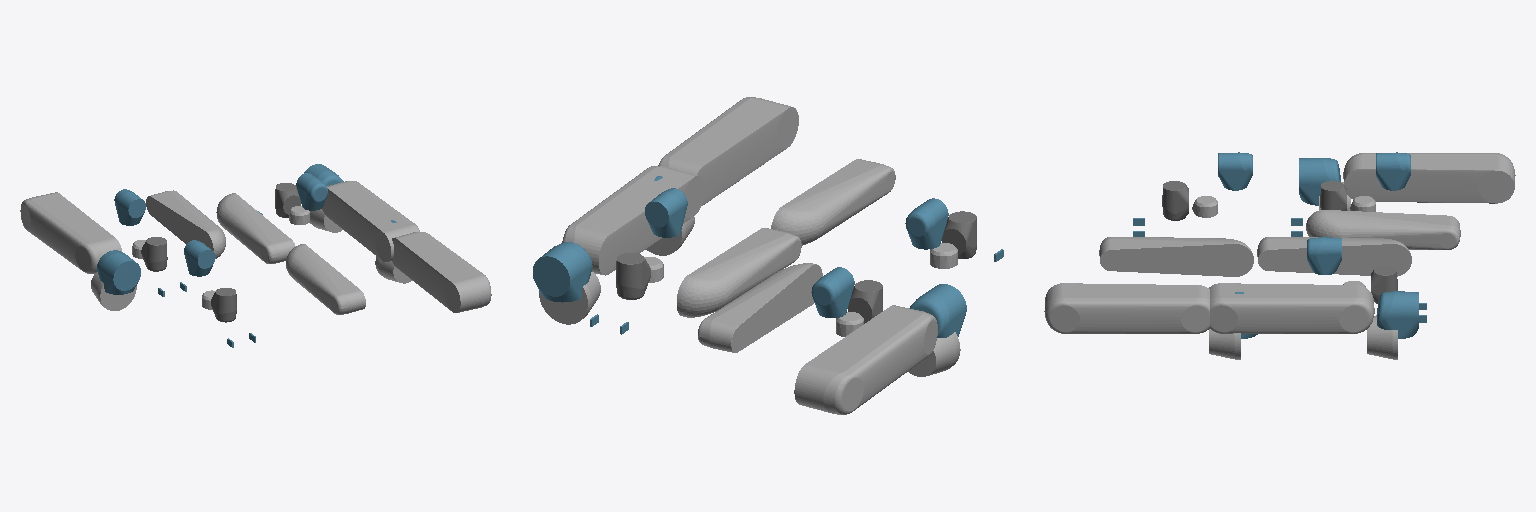
--- What the picture shows (computed from the rendered views, not written in the file) ---
3 views of the same robot in one strip: view 1: azimuth 30°, elevation 25°; view 2: azimuth 150°, elevation 25°; view 3: azimuth 270°, elevation 25° (orthographic).
Model dual_ur5_robot with 58 links and 57 joints (36 revolute, 21 fixed), rooted at base_fixture_link, posed all joints at 0.
Links seen in each view (by area): view 1: upper_arm_link_2, upper_arm_link_1, upper_arm_link_0, forearm_link_2, forearm_link_0, forearm_link_1, shoulder_link_1, wrist_1_link_1, wrist_1_link_2, wrist_1_link_0, wrist_2_link_0, wrist_2_link_2 (+2 smaller); view 2: upper_arm_link_1, upper_arm_link_2, upper_arm_link_0, forearm_link_0, forearm_link_1, forearm_link_2, shoulder_link_0, shoulder_link_1, wrist_1_link_2, wrist_1_link_0, wrist_1_link_1, wrist_2_link_1 (+6 smaller); view 3: upper_arm_link_2, upper_arm_link_0, upper_arm_link_1, forearm_link_2, forearm_link_1, forearm_link_0, shoulder_link_0, shoulder_link_1, wrist_1_link_1, wrist_1_link_0, wrist_1_link_2, wrist_2_link_2 (+4 smaller).
Boxes of the visible links, x1,y1,x2,y2 form: upper_arm_link_2: (392,232,491,312); upper_arm_link_1: (20,192,121,273); upper_arm_link_0: (322,181,419,262); forearm_link_2: (286,244,365,314); forearm_link_0: (216,193,295,263); forearm_link_1: (146,190,225,258); shoulder_link_1: (97,250,140,294); wrist_1_link_1: (296,173,327,210); wrist_1_link_2: (184,240,215,276); wrist_1_link_0: (114,189,145,225); wrist_2_link_0: (141,237,167,271); wrist_2_link_2: (211,288,236,322); upper_arm_link_1: (794,305,937,414); upper_arm_link_2: (658,97,798,205); upper_arm_link_0: (562,166,704,275); forearm_link_0: (677,228,801,317); forearm_link_1: (698,263,822,352); forearm_link_2: (771,159,895,245); shoulder_link_0: (533,242,592,302); shoulder_link_1: (910,284,966,337); wrist_1_link_2: (905,198,948,249); wrist_1_link_0: (811,267,854,317); wrist_1_link_1: (645,188,687,237); wrist_2_link_1: (616,253,650,299); upper_arm_link_2: (1044,283,1209,333); upper_arm_link_0: (1209,283,1374,333); upper_arm_link_1: (1343,153,1515,203); forearm_link_2: (1099,237,1253,276); forearm_link_1: (1306,210,1460,249); forearm_link_0: (1257,237,1411,276); shoulder_link_0: (1377,291,1418,338); shoulder_link_1: (1299,158,1340,205); wrist_1_link_1: (1307,237,1341,274); wrist_1_link_0: (1376,152,1410,190); wrist_1_link_2: (1218,152,1252,190); wrist_2_link_2: (1162,181,1188,220).
Bounding box of the posed robot: 1.15 × 1.49 × 0.3303 m (x, y, z).
Meshes: 12 distinct files referenced, 21 mesh visuals loaded (7 OBJ); not drawn: 27 (reference not matched to a file when rendering).

robot.urdf — dual_ur5_robot:
<?xml version="1.0" ?>
<!-- =================================================================================== -->
<!-- |    This document was autogenerated by xacro from ur_description/urdf/ur10e.xacro | -->
<!-- |    EDITING THIS FILE BY HAND IS NOT RECOMMENDED                                 | -->
<!-- =================================================================================== -->
<robot name="dual_ur5_robot">

  <!--################################################
  ########            shared base              #######
  ####################################################-->

  <link name="base_fixture_link"/>

  <!--################################################
  ########              arm 0                  #######
  ####################################################-->

  <link name="base_link_0">
    <visual>
      <geometry>
        <mesh filename="../ur5/meshes/visual/base.obj"/>
      </geometry>
      <material name="LightGrey">
        <color rgba="0.7 0.7 0.7 1.0"/>
      </material>
    </visual>
    <collision>
      <geometry>
        <mesh filename="../ur5/meshes/collision/base.stl"/>
      </geometry>
    </collision>
    <inertial>
      <mass value="4.0"/>
      <origin rpy="0 0 0" xyz="0.0 0.0 0.0"/>
      <inertia ixx="0.00443333156" ixy="0.0" ixz="0.0" iyy="0.00443333156" iyz="0.0" izz="0.0072"/>
    </inertial>
  </link>

  <joint name="shoulder_pan_joint_0" type="revolute">
    <parent link="base_link_0"/>
    <child link="shoulder_link_0"/>
    <origin rpy="0.0 0.0 0.0" xyz="0.0 0.0 0.089159"/>
    <axis xyz="0 0 1"/>
    <limit effort="150.0" lower="-3.14159265359" upper="3.14159265359" velocity="3.15"/>
    <dynamics damping="0.1" friction="0.0"/>
  </joint>
  <link name="shoulder_link_0">
    <visual>
      <geometry>
        <mesh filename="../ur5/meshes/visual/shoulder.obj"/>
      </geometry>
      <material name="UR-Blue">
        <color rgba="0.376 0.576 0.674 1.0"/>
      </material>
    </visual>
    <collision>
      <geometry>
        <mesh filename="../ur5/meshes/collision/shoulder.stl"/>
      </geometry>
    </collision>
    <inertial>
      <mass value="3.7"/>
      <origin rpy="0 0 0" xyz="0.0 0.0 0.0"/>
      <inertia ixx="0.010267495893" ixy="0.0" ixz="0.0" iyy="0.010267495893" iyz="0.0" izz="0.00666"/>
    </inertial>
  </link>
  <joint name="shoulder_lift_joint_0" type="revolute">
    <parent link="shoulder_link_0"/>
    <child link="upper_arm_link_0"/>
    <origin rpy="0.0 1.57079632679 0.0" xyz="0.0 0.13585 0.0"/>
    <axis xyz="0 1 0"/>
    <limit effort="150.0" lower="-3.14159265359" upper="3.14159265359" velocity="3.15"/>
    <dynamics damping="0.1" friction="0.0"/>
  </joint>
  <link name="upper_arm_link_0">
    <visual>
      <geometry>
        <mesh filename="../ur5/meshes/visual/upperarm.obj"/>
      </geometry>
      <material name="LightGrey">
        <color rgba="0.7 0.7 0.7 1.0"/>
      </material>
    </visual>
    <collision>
      <geometry>
        <mesh filename="../ur5/meshes/collision/upperarm.stl"/>
      </geometry>
    </collision>
    <inertial>
      <mass value="8.393"/>
      <origin rpy="0 0 0" xyz="0.0 0.0 0.28"/>
      <inertia ixx="0.22689067591" ixy="0.0" ixz="0.0" iyy="0.22689067591" iyz="0.0" izz="0.0151074"/>
    </inertial>
  </link>
  <joint name="elbow_joint_0" type="revolute">
    <parent link="upper_arm_link_0"/>
    <child link="forearm_link_0"/>
    <origin rpy="0.0 0.0 0.0" xyz="0.0 -0.1197 0.425"/>
    <axis xyz="0 1 0"/>
    <limit effort="150.0" lower="-3.14159265359" upper="3.14159265359" velocity="3.15"/>
    <dynamics damping="0.1" friction="0.0"/>
  </joint>
  <link name="forearm_link_0">
    <visual>
      <geometry>
        <mesh filename="../ur5/meshes/visual/forearm.obj"/>
      </geometry>
      <material name="LightGrey">
        <color rgba="0.7 0.7 0.7 1.0"/>
      </material>
    </visual>
    <collision>
      <geometry>
        <mesh filename="../ur5/meshes/collision/forearm.stl"/>
      </geometry>
    </collision>
    <inertial>
      <mass value="2.275"/>
      <origin rpy="0 0 0" xyz="0.0 0.0 0.25"/>
      <inertia ixx="0.049443313556" ixy="0.0" ixz="0.0" iyy="0.049443313556" iyz="0.0" izz="0.004095"/>
    </inertial>
  </link>
  <joint name="wrist_1_joint_0" type="revolute">
    <parent link="forearm_link_0"/>
    <child link="wrist_1_link_0"/>
    <origin rpy="0.0 1.57079632679 0.0" xyz="0.0 0.0 0.39225"/>
    <axis xyz="0 1 0"/>
    <limit effort="28.0" lower="-3.14159265359" upper="3.14159265359" velocity="3.2"/>
    <dynamics damping="0.1" friction="0.0"/>
  </joint>
  <link name="wrist_1_link_0">
    <visual>
      <geometry>
        <mesh filename="../ur5/meshes/visual/wrist1.obj"/>
      </geometry>
      <material name="UR-Blue">
        <color rgba="0.376 0.576 0.674 1.0"/>
      </material>
    </visual>
    <collision>
      <geometry>
        <mesh filename="../ur5/meshes/collision/wrist1.stl"/>
      </geometry>
    </collision>
    <inertial>
      <mass value="1.219"/>
      <origin rpy="0 0 0" xyz="0.0 0.0 0.0"/>
      <inertia ixx="0.111172755531" ixy="0.0" ixz="0.0" iyy="0.111172755531" iyz="0.0" izz="0.21942"/>
    </inertial>
  </link>
  <joint name="wrist_2_joint_0" type="revolute">
    <parent link="wrist_1_link_0"/>
    <child link="wrist_2_link_0"/>
    <origin rpy="0.0 0.0 0.0" xyz="0.0 0.093 0.0"/>
    <axis xyz="0 0 1"/>
    <limit effort="28.0" lower="-3.14159265359" upper="3.14159265359" velocity="3.2"/>
    <dynamics damping="0.1" friction="0.0"/>
  </joint>
  <link name="wrist_2_link_0">
    <visual>
      <geometry>
        <mesh filename="../ur5/meshes/visual/wrist2.obj"/>
      </geometry>
      <material name="DarkGray">
        <color rgba="0.5 0.5 0.5 1.0"/>
      </material>
    </visual>
    <collision>
      <geometry>
        <mesh filename="../ur5/meshes/collision/wrist2.stl"/>
      </geometry>
    </collision>
    <inertial>
      <mass value="1.219"/>
      <origin rpy="0 0 0" xyz="0.0 0.0 0.0"/>
      <inertia ixx="0.111172755531" ixy="0.0" ixz="0.0" iyy="0.111172755531" iyz="0.0" izz="0.21942"/>
    </inertial>
  </link>
  <joint name="wrist_3_joint_0" type="revolute">
    <parent link="wrist_2_link_0"/>
    <child link="wrist_3_link_0"/>
    <origin rpy="0.0 0.0 0.0" xyz="0.0 0.0 0.09465"/>
    <axis xyz="0 1 0"/>
    <limit effort="28.0" lower="-3.14159265359" upper="3.14159265359" velocity="3.2"/>
    <dynamics damping="0.1" friction="0.0"/>
  </joint>
  <link name="wrist_3_link_0">
    <visual>
      <geometry>
        <mesh filename="../ur5/meshes/visual/wrist3.obj"/>
      </geometry>
      <material name="LightGrey">
        <color rgba="0.7 0.7 0.7 1.0"/>
      </material>
    </visual>
    <collision>
      <geometry>
        <mesh filename="../ur5/meshes/collision/wrist3.stl"/>
      </geometry>
    </collision>
    <inertial>
      <mass value="0.1879"/>
      <origin rpy="0 0 0" xyz="0.0 0.0 0.0"/>
      <inertia ixx="0.0171364731454" ixy="0.0" ixz="0.0" iyy="0.0171364731454" iyz="0.0" izz="0.033822"/>
    </inertial>
  </link>
  <joint name="ee_fixed_joint_0" type="fixed">
    <parent link="wrist_3_link_0"/>
    <child link="ee_link_0"/>
    <origin rpy="0.0 0.0 1.57079632679" xyz="0.0 0.0823 0.0"/>
    <dynamics damping="0.1" friction="0.0"/>
  </joint>
  <link name="ee_link_0">
    <collision>
      <geometry>
        <box size="0.01 0.01 0.01"/>
      </geometry>
      <origin rpy="0 0 0" xyz="-0.01 0 0"/>
    </collision>
  </link>

  <!--################################################
  ########             gripper 0                 #####
  ####################################################-->

  <link name="robotiq_arg2f_base_link_0">
    <inertial>
      <origin rpy="0 0 0" xyz="8.625E-08 -4.6583E-06 0.03145"/>
      <mass value="0.22652"/>
      <inertia ixx="0.00020005" ixy="-4.2442E-10" ixz="-2.9069E-10" iyy="0.00017832" iyz="-3.4402E-08" izz="0.00013478"/>
    </inertial>
    <visual>
      <origin rpy="0 0 0" xyz="0 0 0"/>
      <geometry>
        <mesh filename="../robotiq_85/meshes/visual/robotiq_arg2f_85_base_link.dae" scale="0.001 0.001 0.001"/>
      </geometry>
      <material name="LightGrey">
        <color rgba="0.7 0.7 0.7 1.0"/>
      </material>
    </visual>
    <collision>
      <origin rpy="0 0 0" xyz="0 0 0"/>
      <geometry>
        <mesh filename="../robotiq_85/meshes/collision/robotiq_arg2f_base_link.stl"/>
      </geometry>
    </collision>
  </link>
  <joint name="finger_joint_0" type="revolute">
    <origin rpy="0 0 3.14159265359" xyz="0 -0.0306011 0.054904"/>
    <parent link="robotiq_arg2f_base_link_0"/>
    <child link="left_outer_knuckle_0"/>
    <axis xyz="1 0 0"/>
    <limit effort="1000" lower="0" upper="0.8" velocity="2.0"/>
    <dynamics damping="0.1" friction="0.0"/>
  </joint>
  <link name="left_outer_knuckle_0">
    <inertial>
        <origin xyz="-0.000200000000003065 0.0199435877845359 0.0292245259211331" rpy="0 0 0" />
        <mass value="0.00853198276973456" />
        <inertia ixx="2.89328108496468E-06" ixy="-1.57935047237397E-19" ixz="-1.93980378593255E-19" iyy="1.86719750325683E-06" iyz="-1.21858577871576E-06" izz="1.21905238907251E-06" />
        </inertial>
    <visual>
      <origin rpy="0 0 0" xyz="0 0 0"/>
      <geometry>
        <mesh filename="../robotiq_85/meshes/visual/robotiq_arg2f_85_outer_knuckle.dae" scale="0.001 0.001 0.001"/>
      </geometry>
      <material name="">
        <color rgba="1 1 0 1"/>
      </material>
    </visual>
    <collision>
      <origin rpy="0 0 0" xyz="0 0 0"/>
      <geometry>
        <mesh filename="../robotiq_85/meshes/collision/robotiq_arg2f_85_outer_knuckle.dae" scale="0.001 0.001 0.001"/>
      </geometry>
    </collision>
  </link>
  <joint name="left_outer_finger_joint_0" type="fixed">
    <origin rpy="0 0 0" xyz="0 0.0315 -0.0041"/>
    <parent link="left_outer_knuckle_0"/>
    <child link="left_outer_finger_0"/>
    <axis xyz="1 0 0"/>
    <dynamics damping="0.1" friction="0.0"/>
  </joint>
  <link name="left_outer_finger_0">
    <inertial>
        <origin xyz="0.00030115855001899 0.0373907951953854 -0.0208027427000385" rpy="0 0 0" />
        <mass value="0.022614240507152" />
        <inertia ixx="1.52518312458174E-05" ixy="9.76583423954399E-10" ixz="-5.43838577022588E-10" iyy="6.17694243867776E-06" iyz="6.78636130740228E-06" izz="1.16494917907219E-05" />
        </inertial>
    <visual>
      <origin rpy="0 0 0" xyz="0 0 0"/>
      <geometry>
        <mesh filename="../robotiq_85/meshes/visual/robotiq_arg2f_85_outer_finger.dae" scale="0.001 0.001 0.001"/>
      </geometry>
      <material name="LightGrey">
        <color rgba="0 1 1 1.0"/>
      </material>
    </visual>
    <collision>
      <origin rpy="0 0 0" xyz="0 0 0"/>
      <geometry>
        <mesh filename="../robotiq_85/meshes/collision/robotiq_arg2f_85_outer_finger.dae" scale="0.001 0.001 0.001"/>
      </geometry>
    </collision>
  </link>
  <joint name="left_inner_finger_joint_0" type="revolute">
    <origin rpy="0 0 0" xyz="0 0.0061 0.0471"/>
    <parent link="left_outer_finger_0"/>
    <child link="left_inner_finger_0"/>
    <axis xyz="1 0 0"/>
    <limit effort="1000" lower="-0.8757" upper="0" velocity="2.0"/>
    <mimic joint="finger_joint_0" multiplier="-1" offset="0"/>
    <dynamics damping="0.1" friction="0.0"/>
  </joint>
  <link name="left_inner_finger_0">
    <inertial>
        <origin xyz="0.000299999999999317 0.0160078233491243 -0.0136945669206257" rpy="0 0 0" />
        <mass value="0.0104003125914103" />
        <inertia ixx="2.71909453810972E-06" ixy="1.35402465472579E-21" ixz="-7.1817349065269E-22" iyy="7.69100314106116E-07" iyz="6.74715432769696E-07" izz="2.30315190420171E-06" />
        </inertial>
    <visual>
      <origin rpy="0 0 0" xyz="0 0 0"/>
      <geometry>
        <mesh filename="../robotiq_85/meshes/visual/robotiq_arg2f_85_inner_finger.dae" scale="0.001 0.001 0.001"/>
      </geometry>
      <material name="LightGrey">
        <color rgba="1 0 1 1.0"/>
      </material>
    </visual>
    <collision>
      <origin rpy="0 0 0" xyz="0 0 0"/>
      <geometry>
        <mesh filename="../robotiq_85/meshes/collision/robotiq_arg2f_85_inner_finger.dae" scale="0.001 0.001 0.001"/>
      </geometry>
    </collision>
  </link>
  <joint name="left_inner_finger_pad_joint_0" type="fixed">
    <origin rpy="0 0 0" xyz="0 -0.0220203446692936 0.03242"/>
    <parent link="left_inner_finger_0"/>
    <child link="left_inner_finger_pad_0"/>
    <axis xyz="0 0 1"/>
    <dynamics damping="0.1" friction="0.0"/>
  </joint>
  <link name="left_inner_finger_pad_0">
    <inertial>
      <mass value="1."/>
      <inertia ixx="1E-10" ixy="1E-10" ixz="1E-10" iyy="1E-10" iyz="1E-10" izz="1E-10"/>
    </inertial>
    <contact>
      <friction_anchor/>
      <stiffness value="30000.0"/>
      <damping value="1000.0"/>
      <spinning_friction value="0.1"/>
      <lateral_friction value="1.0"/>
    </contact>
    <visual>
      <origin rpy="0 0 0" xyz="0 0 0"/>
      <geometry>
        <box size="0.022 0.00635 0.0375"/>
      </geometry>
      <material name="UR-Blue">
        <color rgba="0.376 0.576 0.674 1.0"/>
      </material>
    </visual>
    <collision>
      <origin rpy="0 0 0" xyz="0 0 0"/>
      <geometry>
        <box size="0.022 0.00635 0.0375"/>
      </geometry>
      <material name="">
        <color rgba="0.9 0.0 0.0 1"/>
      </material>
    </collision>
  </link>
  <joint name="left_inner_knuckle_joint_0" type="revolute">
    <!-- <origin xyz="0 ${reflect * -0.0127} 0.06142" rpy="${pi / 2 + .725} 0 ${(reflect - 1) * pi / 2}" /> -->
    <origin rpy="0 0 3.14159265359" xyz="0 -0.0127 0.06142"/>
    <parent link="robotiq_arg2f_base_link_0"/>
    <child link="left_inner_knuckle_0"/>
    <axis xyz="1 0 0"/>
    <limit effort="1000" lower="0" upper="0.8757" velocity="2.0"/>
    <mimic joint="finger_joint_0" multiplier="1" offset="0"/>
    <dynamics damping="0.1" friction="0.0"/>
  </joint>
  <link name="left_inner_knuckle_0">
    <inertial>
        <origin xyz="0.000123011831763771 0.0507850843201817 0.00103968640075166" rpy="0 0 0" />
       <mass value="0.0271177346495152" />
        <inertia ixx="2.61910379223783E-05" ixy="-2.43616858946494E-07" ixz="-6.37789906117123E-09" iyy="2.8270243746167E-06" iyz="-5.37200748039765E-07" izz="2.83695868220296E-05" />
        </inertial>
    <visual>
      <origin rpy="0 0 0" xyz="0 0 0"/>
      <geometry>
        <mesh filename="../robotiq_85/meshes/visual/robotiq_arg2f_85_inner_knuckle.dae" scale="0.001 0.001 0.001"/>
      </geometry>
      <material name="LightGrey">
        <color rgba="0 0 1 1.0"/>
      </material>
    </visual>
    <collision>
      <origin rpy="0 0 0" xyz="0 0 0"/>
      <geometry>
        <mesh filename="../robotiq_85/meshes/collision/robotiq_arg2f_85_inner_knuckle.dae" scale="0.001 0.001 0.001"/>
      </geometry>
    </collision>
  </link>
  <joint name="right_outer_knuckle_joint_0" type="revolute">
    <origin rpy="0 0 0" xyz="0 0.0306011 0.054904"/>
    <parent link="robotiq_arg2f_base_link_0"/>
    <child link="right_outer_knuckle_0"/>
    <axis xyz="1 0 0"/>
    <limit effort="1000" lower="0" upper="0.81" velocity="2.0"/>
    <mimic joint="finger_joint_0" multiplier="1" offset="0"/>
    <dynamics damping="0.1" friction="0.0"/>
  </joint>
  <link name="right_outer_knuckle_0">
    <inertial>
        <origin xyz="-0.000200000000003065 0.0199435877845359 0.0292245259211331" rpy="0 0 0" />
        <mass value="0.00853198276973456" />
        <inertia ixx="2.89328108496468E-06" ixy="-1.57935047237397E-19" ixz="-1.93980378593255E-19" iyy="1.86719750325683E-06" iyz="-1.21858577871576E-06" izz="1.21905238907251E-06" />
        </inertial>
    <visual>
      <origin rpy="0 0 0" xyz="0 0 0"/>
      <geometry>
        <mesh filename="../robotiq_85/meshes/visual/robotiq_arg2f_85_outer_knuckle.dae" scale="0.001 0.001 0.001"/>
      </geometry>
      <material name="">
        <color rgba="0.792156862745098 0.819607843137255 0.933333333333333 1"/>
      </material>
    </visual>
    <collision>
      <origin rpy="0 0 0" xyz="0 0 0"/>
      <geometry>
        <mesh filename="../robotiq_85/meshes/collision/robotiq_arg2f_85_outer_knuckle.dae" scale="0.001 0.001 0.001"/>
      </geometry>
    </collision>
  </link>
  <joint name="right_outer_finger_joint_0" type="fixed">
    <origin rpy="0 0 0" xyz="0 0.0315 -0.0041"/>
    <parent link="right_outer_knuckle_0"/>
    <child link="right_outer_finger_0"/>
    <axis xyz="1 0 0"/>
    <dynamics damping="0.1" friction="0.0"/>
  </joint>
  <link name="right_outer_finger_0">
    <inertial>
        <origin xyz="0.00030115855001899 0.0373907951953854 -0.0208027427000385" rpy="0 0 0" />
        <mass value="0.022614240507152" />
        <inertia ixx="1.52518312458174E-05" ixy="9.76583423954399E-10" ixz="-5.43838577022588E-10" iyy="6.17694243867776E-06" iyz="6.78636130740228E-06" izz="1.16494917907219E-05" />
        </inertial>
    <visual>
      <origin rpy="0 0 0" xyz="0 0 0"/>
      <geometry>
        <mesh filename="../robotiq_85/meshes/visual/robotiq_arg2f_85_outer_finger.dae" scale="0.001 0.001 0.001"/>
      </geometry>
      <material name="LightGrey">
        <color rgba="0.7 0.7 0.7 1.0"/>
      </material>
    </visual>
    <collision>
      <origin rpy="0 0 0" xyz="0 0 0"/>
      <geometry>
        <mesh filename="../robotiq_85/meshes/collision/robotiq_arg2f_85_outer_finger.dae" scale="0.001 0.001 0.001"/>
      </geometry>
    </collision>
  </link>
  <joint name="right_inner_finger_joint_0" type="revolute">
    <origin rpy="0 0 0" xyz="0 0.0061 0.0471"/>
    <parent link="right_outer_finger_0"/>
    <child link="right_inner_finger_0"/>
    <axis xyz="1 0 0"/>
    <limit effort="1000" lower="-0.8757" upper="0" velocity="2.0"/>
    <mimic joint="finger_joint_0" multiplier="-1" offset="0"/>
    <dynamics damping="0.1" friction="0.0"/>
  </joint>
  <link name="right_inner_finger_0">
    <inertial>
        <origin xyz="0.000299999999999317 0.0160078233491243 -0.0136945669206257" rpy="0 0 0" />
        <mass value="0.0104003125914103" />
        <inertia ixx="2.71909453810972E-06" ixy="1.35402465472579E-21" ixz="-7.1817349065269E-22" iyy="7.69100314106116E-07" iyz="6.74715432769696E-07" izz="2.30315190420171E-06" />
        </inertial>
    <visual>
      <origin rpy="0 0 0" xyz="0 0 0"/>
      <geometry>
        <mesh filename="../robotiq_85/meshes/visual/robotiq_arg2f_85_inner_finger.dae" scale="0.001 0.001 0.001"/>
      </geometry>
      <material name="">
        <color rgba="0.1 0.1 0.1 1"/>
      </material>
    </visual>
    <collision>
      <origin rpy="0 0 0" xyz="0 0 0"/>
      <geometry>
        <mesh filename="../robotiq_85/meshes/collision/robotiq_arg2f_85_inner_finger.dae" scale="0.001 0.001 0.001"/>
      </geometry>
    </collision>
  </link>
  <joint name="right_inner_finger_pad_joint_0" type="fixed">
    <origin rpy="0 0 0" xyz="0 -0.0220203446692936 0.03242"/>
    <parent link="right_inner_finger_0"/>
    <child link="right_inner_finger_pad_0"/>
    <axis xyz="0 0 1"/>
    <dynamics damping="0.1" friction="0.0"/>
  </joint>
  <link name="right_inner_finger_pad_0">
    <inertial>
      <mass value="1"/>
      <inertia ixx="1E-10" ixy="1E-10" ixz="1E-10" iyy="1E-10" iyz="1E-10" izz="1E-10"/>
    </inertial>
    <contact>
      <friction_anchor/>
      <stiffness value="30000.0"/>
      <damping value="1000.0"/>
      <spinning_friction value="0.1"/>
      <lateral_friction value="1.0"/>
    </contact>
    <visual>
      <origin rpy="0 0 0" xyz="0 0 0"/>
      <geometry>
        <box size="0.022 0.00635 0.0375"/>
      </geometry>
      <material name="UR-Blue">
        <color rgba="0.376 0.576 0.674 1.0"/>
      </material>
    </visual>
    <collision>
      <origin rpy="0 0 0" xyz="0 0 0"/>
      <geometry>
        <box size="0.022 0.00635 0.0375"/>
      </geometry>
      <material name="LightGrey">
        <color rgba="0.7 0.7 0.7 1.0"/>
      </material>
    </collision>
  </link>
  <joint name="right_inner_knuckle_joint_0" type="revolute">
    <!-- <origin xyz="0 ${reflect * -0.0127} 0.06142" rpy="${pi / 2 + .725} 0 ${(reflect - 1) * pi / 2}" /> -->
    <origin rpy="0 0 0.0" xyz="0 0.0127 0.06142"/>
    <parent link="robotiq_arg2f_base_link_0"/>
    <child link="right_inner_knuckle_0"/>
    <axis xyz="1 0 0"/>
    <limit effort="1000" lower="0" upper="0.8757" velocity="2.0"/>
    <mimic joint="finger_joint_0" multiplier="1" offset="0"/>
    <dynamics damping="0.1" friction="0.0"/>
  </joint>
  <link name="right_inner_knuckle_0">
    <inertial>
        <origin xyz="0.000123011831763771 0.0507850843201817 0.00103968640075166" rpy="0 0 0" />
       <mass value="0.0271177346495152" />
        <inertia ixx="2.61910379223783E-05" ixy="-2.43616858946494E-07" ixz="-6.37789906117123E-09" iyy="2.8270243746167E-06" iyz="-5.37200748039765E-07" izz="2.83695868220296E-05" />
        </inertial>
    <visual>
      <origin rpy="0 0 0" xyz="0 0 0"/>
      <geometry>
        <mesh filename="../robotiq_85/meshes/visual/robotiq_arg2f_85_inner_knuckle.dae" scale="0.001 0.001 0.001"/>
      </geometry>
      <material name="LightGrey">
        <color rgba="0.7 0.7 0.7 1.0"/>
      </material>
    </visual>
    <collision>
      <origin rpy="0 0 0" xyz="0 0 0"/>
      <geometry>
        <mesh filename="../robotiq_85/meshes/collision/robotiq_arg2f_85_inner_knuckle.dae" scale="0.001 0.001 0.001"/>
      </geometry>
    </collision>
  </link>

  <!--################################################
  ########          arm0 to gripper0             #####
  ####################################################-->

  <!-- connect gripper to arm -->
  <joint name="robotiq_85_base_joint_0" type="fixed">
    <parent link="ee_link_0"/>
    <child link="robotiq_arg2f_base_link_0"/>
    <origin rpy="0 1.57079632679 0" xyz="0 0 0"/>
  </joint>

  <!--################################################
  ########              arm 1                  #######
  ####################################################-->

  <link name="base_link_1">
    <visual>
      <geometry>
        <mesh filename="../ur5/meshes/visual/base.obj"/>
      </geometry>
      <material name="LightGrey">
        <color rgba="0.7 0.7 0.7 1.0"/>
      </material>
    </visual>
    <collision>
      <geometry>
        <mesh filename="../ur5/meshes/collision/base.stl"/>
      </geometry>
    </collision>
    <inertial>
      <mass value="4.0"/>
      <origin rpy="0 0 0" xyz="0.0 0.0 0.0"/>
      <inertia ixx="0.00443333156" ixy="0.0" ixz="0.0" iyy="0.00443333156" iyz="0.0" izz="0.0072"/>
    </inertial>
  </link>

  <joint name="shoulder_pan_joint_1" type="revolute">
    <parent link="base_link_1"/>
    <child link="shoulder_link_1"/>
    <origin rpy="0.0 0.0 0.0" xyz="0.0 0.0 0.089159"/>
    <axis xyz="0 0 1"/>
    <limit effort="150.0" lower="-3.14159265359" upper="3.14159265359" velocity="3.15"/>
    <dynamics damping="0.1" friction="0.0"/>
  </joint>
  <link name="shoulder_link_1">
    <visual>
      <geometry>
        <mesh filename="../ur5/meshes/visual/shoulder.obj"/>
      </geometry>
      <material name="UR-Blue">
        <color rgba="0.376 0.576 0.674 1.0"/>
      </material>
    </visual>
    <collision>
      <geometry>
        <mesh filename="../ur5/meshes/collision/shoulder.stl"/>
      </geometry>
    </collision>
    <inertial>
      <mass value="3.7"/>
      <origin rpy="0 0 0" xyz="0.0 0.0 0.0"/>
      <inertia ixx="0.010267495893" ixy="0.0" ixz="0.0" iyy="0.010267495893" iyz="0.0" izz="0.00666"/>
    </inertial>
  </link>
  <joint name="shoulder_lift_joint_1" type="revolute">
    <parent link="shoulder_link_1"/>
    <child link="upper_arm_link_1"/>
    <origin rpy="0.0 1.57079632679 0.0" xyz="0.0 0.13585 0.0"/>
    <axis xyz="0 1 0"/>
    <limit effort="150.0" lower="-3.14159265359" upper="3.14159265359" velocity="3.15"/>
    <dynamics damping="0.1" friction="0.0"/>
  </joint>
  <link name="upper_arm_link_1">
    <visual>
      <geometry>
        <mesh filename="../ur5/meshes/visual/upperarm.obj"/>
      </geometry>
      <material name="LightGrey">
        <color rgba="0.7 0.7 0.7 1.0"/>
      </material>
    </visual>
    <collision>
      <geometry>
        <mesh filename="../ur5/meshes/collision/upperarm.stl"/>
      </geometry>
    </collision>
    <inertial>
      <mass value="8.393"/>
      <origin rpy="0 0 0" xyz="0.0 0.0 0.28"/>
      <inertia ixx="0.22689067591" ixy="0.0" ixz="0.0" iyy="0.22689067591" iyz="0.0" izz="0.0151074"/>
    </inertial>
  </link>
  <joint name="elbow_joint_1" type="revolute">
    <parent link="upper_arm_link_1"/>
    <child link="forearm_link_1"/>
    <origin rpy="0.0 0.0 0.0" xyz="0.0 -0.1197 0.425"/>
    <axis xyz="0 1 0"/>
    <limit effort="150.0" lower="-3.14159265359" upper="3.14159265359" velocity="3.15"/>
    <dynamics damping="0.1" friction="0.0"/>
  </joint>
  <link name="forearm_link_1">
    <visual>
      <geometry>
        <mesh filename="../ur5/meshes/visual/forearm.obj"/>
      </geometry>
      <material name="LightGrey">
        <color rgba="0.7 0.7 0.7 1.0"/>
      </material>
    </visual>
    <collision>
      <geometry>
        <mesh filename="../ur5/meshes/collision/forearm.stl"/>
      </geometry>
    </collision>
    <inertial>
      <mass value="2.275"/>
      <origin rpy="0 0 0" xyz="0.0 0.0 0.25"/>
      <inertia ixx="0.049443313556" ixy="0.0" ixz="0.0" iyy="0.049443313556" iyz="0.0" izz="0.004095"/>
    </inertial>
  </link>
  <joint name="wrist_1_joint_1" type="revolute">
    <parent link="forearm_link_1"/>
    <child link="wrist_1_link_1"/>
    <origin rpy="0.0 1.57079632679 0.0" xyz="0.0 0.0 0.39225"/>
    <axis xyz="0 1 0"/>
    <limit effort="28.0" lower="-3.14159265359" upper="3.14159265359" velocity="3.2"/>
    <dynamics damping="0.1" friction="0.0"/>
  </joint>
  <link name="wrist_1_link_1">
    <visual>
      <geometry>
        <mesh filename="../ur5/meshes/visual/wrist1.obj"/>
      </geometry>
      <material name="UR-Blue">
        <color rgba="0.376 0.576 0.674 1.0"/>
      </material>
    </visual>
    <collision>
      <geometry>
        <mesh filename="../ur5/meshes/collision/wrist1.stl"/>
      </geometry>
    </collision>
    <inertial>
      <mass value="1.219"/>
      <origin rpy="0 0 0" xyz="0.0 0.0 0.0"/>
      <inertia ixx="0.111172755531" ixy="0.0" ixz="0.0" iyy="0.111172755531" iyz="0.0" izz="0.21942"/>
    </inertial>
  </link>
  <joint name="wrist_2_joint_1" type="revolute">
    <parent link="wrist_1_link_1"/>
    <child link="wrist_2_link_1"/>
    <origin rpy="0.0 0.0 0.0" xyz="0.0 0.093 0.0"/>
    <axis xyz="0 0 1"/>
    <limit effort="28.0" lower="-3.14159265359" upper="3.14159265359" velocity="3.2"/>
    <dynamics damping="0.1" friction="0.0"/>
  </joint>
  <link name="wrist_2_link_1">
    <visual>
      <geometry>
        <mesh filename="../ur5/meshes/visual/wrist2.obj"/>
      </geometry>
      <material name="DarkGray">
        <color rgba="0.5 0.5 0.5 1.0"/>
      </material>
    </visual>
    <collision>
      <geometry>
        <mesh filename="../ur5/meshes/collision/wrist2.stl"/>
      </geometry>
    </collision>
    <inertial>
      <mass value="1.219"/>
      <origin rpy="0 0 0" xyz="0.0 0.0 0.0"/>
      <inertia ixx="0.111172755531" ixy="0.0" ixz="0.0" iyy="0.111172755531" iyz="0.0" izz="0.21942"/>
    </inertial>
  </link>
  <joint name="wrist_3_joint_1" type="revolute">
    <parent link="wrist_2_link_1"/>
    <child link="wrist_3_link_1"/>
    <origin rpy="0.0 0.0 0.0" xyz="0.0 0.0 0.09465"/>
    <axis xyz="0 1 0"/>
    <limit effort="28.0" lower="-3.14159265359" upper="3.14159265359" velocity="3.2"/>
    <dynamics damping="0.1" friction="0.0"/>
  </joint>
  <link name="wrist_3_link_1">
    <visual>
      <geometry>
        <mesh filename="../ur5/meshes/visual/wrist3.obj"/>
      </geometry>
      <material name="LightGrey">
        <color rgba="0.7 0.7 0.7 1.0"/>
      </material>
    </visual>
    <collision>
      <geometry>
        <mesh filename="../ur5/meshes/collision/wrist3.stl"/>
      </geometry>
    </collision>
    <inertial>
      <mass value="0.1879"/>
      <origin rpy="0 0 0" xyz="0.0 0.0 0.0"/>
      <inertia ixx="0.0171364731454" ixy="0.0" ixz="0.0" iyy="0.0171364731454" iyz="0.0" izz="0.033822"/>
    </inertial>
  </link>
  <joint name="ee_fixed_joint_1" type="fixed">
    <parent link="wrist_3_link_1"/>
    <child link="ee_link_1"/>
    <origin rpy="0.0 0.0 1.57079632679" xyz="0.0 0.0823 0.0"/>
    <dynamics damping="0.1" friction="0.0"/>
  </joint>
  <link name="ee_link_1">
    <collision>
      <geometry>
        <box size="0.01 0.01 0.01"/>
      </geometry>
      <origin rpy="0 0 0" xyz="-0.01 0 0"/>
    </collision>
  </link>


  <!--################################################
  ########             gripper 1                 #####
  ####################################################-->

  <link name="robotiq_arg2f_base_link_1">
    <inertial>
      <origin rpy="0 0 0" xyz="8.625E-08 -4.6583E-06 0.03145"/>
      <mass value="0.22652"/>
      <inertia ixx="0.00020005" ixy="-4.2442E-10" ixz="-2.9069E-10" iyy="0.00017832" iyz="-3.4402E-08" izz="0.00013478"/>
    </inertial>
    <visual>
      <origin rpy="0 0 0" xyz="0 0 0"/>
      <geometry>
        <mesh filename="../robotiq_85/meshes/visual/robotiq_arg2f_85_base_link.dae" scale="0.001 0.001 0.001"/>
      </geometry>
      <material name="LightGrey">
        <color rgba="0.7 0.7 0.7 1.0"/>
      </material>
    </visual>
    <collision>
      <origin rpy="0 0 0" xyz="0 0 0"/>
      <geometry>
        <mesh filename="../robotiq_85/meshes/collision/robotiq_arg2f_base_link.stl"/>
      </geometry>
    </collision>
  </link>
  <joint name="finger_joint_1" type="revolute">
    <origin rpy="0 0 3.14159265359" xyz="0 -0.0306011 0.054904"/>
    <parent link="robotiq_arg2f_base_link_1"/>
    <child link="left_outer_knuckle_1"/>
    <axis xyz="1 0 0"/>
    <limit effort="1000" lower="0" upper="0.8" velocity="2.0"/>
    <dynamics damping="0.1" friction="0.0"/>
  </joint>
  <link name="left_outer_knuckle_1">
    <inertial>
        <origin xyz="-0.000200000000003065 0.0199435877845359 0.0292245259211331" rpy="0 0 0" />
        <mass value="0.00853198276973456" />
        <inertia ixx="2.89328108496468E-06" ixy="-1.57935047237397E-19" ixz="-1.93980378593255E-19" iyy="1.86719750325683E-06" iyz="-1.21858577871576E-06" izz="1.21905238907251E-06" />
        </inertial>
    <visual>
      <origin rpy="0 0 0" xyz="0 0 0"/>
      <geometry>
        <mesh filename="../robotiq_85/meshes/visual/robotiq_arg2f_85_outer_knuckle.dae" scale="0.001 0.001 0.001"/>
      </geometry>
      <material name="">
        <color rgba="1 1 0 1"/>
      </material>
    </visual>
    <collision>
      <origin rpy="0 0 0" xyz="0 0 0"/>
      <geometry>
        <mesh filename="../robotiq_85/meshes/collision/robotiq_arg2f_85_outer_knuckle.dae" scale="0.001 0.001 0.001"/>
      </geometry>
    </collision>
  </link>
  <joint name="left_outer_finger_joint_1" type="fixed">
    <origin rpy="0 0 0" xyz="0 0.0315 -0.0041"/>
    <parent link="left_outer_knuckle_1"/>
    <child link="left_outer_finger_1"/>
    <axis xyz="1 0 0"/>
    <dynamics damping="0.1" friction="0.0"/>
  </joint>
  <link name="left_outer_finger_1">
    <inertial>
        <origin xyz="0.00030115855001899 0.0373907951953854 -0.0208027427000385" rpy="0 0 0" />
        <mass value="0.022614240507152" />
        <inertia ixx="1.52518312458174E-05" ixy="9.76583423954399E-10" ixz="-5.43838577022588E-10" iyy="6.17694243867776E-06" iyz="6.78636130740228E-06" izz="1.16494917907219E-05" />
        </inertial>
    <visual>
      <origin rpy="0 0 0" xyz="0 0 0"/>
      <geometry>
        <mesh filename="../robotiq_85/meshes/visual/robotiq_arg2f_85_outer_finger.dae" scale="0.001 0.001 0.001"/>
      </geometry>
      <material name="LightGrey">
        <color rgba="0 1 1 1.0"/>
      </material>
    </visual>
    <collision>
      <origin rpy="0 0 0" xyz="0 0 0"/>
      <geometry>
        <mesh filename="../robotiq_85/meshes/collision/robotiq_arg2f_85_outer_finger.dae" scale="0.001 0.001 0.001"/>
      </geometry>
    </collision>
  </link>
  <joint name="left_inner_finger_joint_1" type="revolute">
    <origin rpy="0 0 0" xyz="0 0.0061 0.0471"/>
    <parent link="left_outer_finger_1"/>
    <child link="left_inner_finger_1"/>
    <axis xyz="1 0 0"/>
    <limit effort="1000" lower="-0.8757" upper="0" velocity="2.0"/>
    <mimic joint="finger_joint_1" multiplier="-1" offset="0"/>
    <dynamics damping="0.1" friction="0.0"/>
  </joint>
  <link name="left_inner_finger_1">
    <inertial>
        <origin xyz="0.000299999999999317 0.0160078233491243 -0.0136945669206257" rpy="0 0 0" />
        <mass value="0.0104003125914103" />
        <inertia ixx="2.71909453810972E-06" ixy="1.35402465472579E-21" ixz="-7.1817349065269E-22" iyy="7.69100314106116E-07" iyz="6.74715432769696E-07" izz="2.30315190420171E-06" />
        </inertial>
    <visual>
      <origin rpy="0 0 0" xyz="0 0 0"/>
      <geometry>
        <mesh filename="../robotiq_85/meshes/visual/robotiq_arg2f_85_inner_finger.dae" scale="0.001 0.001 0.001"/>
      </geometry>
      <material name="LightGrey">
        <color rgba="1 0 1 1.0"/>
      </material>
    </visual>
    <collision>
      <origin rpy="0 0 0" xyz="0 0 0"/>
      <geometry>
        <mesh filename="../robotiq_85/meshes/collision/robotiq_arg2f_85_inner_finger.dae" scale="0.001 0.001 0.001"/>
      </geometry>
    </collision>
  </link>
  <joint name="left_inner_finger_pad_joint_1" type="fixed">
    <origin rpy="0 0 0" xyz="0 -0.0220203446692936 0.03242"/>
    <parent link="left_inner_finger_1"/>
    <child link="left_inner_finger_pad_1"/>
    <axis xyz="0 0 1"/>
    <dynamics damping="0.1" friction="0.0"/>
  </joint>
  <link name="left_inner_finger_pad_1">
    <inertial>
      <mass value="1."/>
      <inertia ixx="1E-10" ixy="1E-10" ixz="1E-10" iyy="1E-10" iyz="1E-10" izz="1E-10"/>
    </inertial>
    <contact>
      <friction_anchor/>
      <stiffness value="30000.0"/>
      <damping value="1000.0"/>
      <spinning_friction value="0.1"/>
      <lateral_friction value="1.0"/>
    </contact>
    <visual>
      <origin rpy="0 0 0" xyz="0 0 0"/>
      <geometry>
        <box size="0.022 0.00635 0.0375"/>
      </geometry>
      <material name="UR-Blue">
        <color rgba="0.376 0.576 0.674 1.0"/>
      </material>
    </visual>
    <collision>
      <origin rpy="0 0 0" xyz="0 0 0"/>
      <geometry>
        <box size="0.022 0.00635 0.0375"/>
      </geometry>
      <material name="">
        <color rgba="0.9 0.0 0.0 1"/>
      </material>
    </collision>
  </link>
  <joint name="left_inner_knuckle_joint_1" type="revolute">
    <!-- <origin xyz="0 ${reflect * -0.0127} 0.06142" rpy="${pi / 2 + .725} 0 ${(reflect - 1) * pi / 2}" /> -->
    <origin rpy="0 0 3.14159265359" xyz="0 -0.0127 0.06142"/>
    <parent link="robotiq_arg2f_base_link_1"/>
    <child link="left_inner_knuckle_1"/>
    <axis xyz="1 0 0"/>
    <limit effort="1000" lower="0" upper="0.8757" velocity="2.0"/>
    <mimic joint="finger_joint_1" multiplier="1" offset="0"/>
    <dynamics damping="0.1" friction="0.0"/>
  </joint>
  <link name="left_inner_knuckle_1">
    <inertial>
        <origin xyz="0.000123011831763771 0.0507850843201817 0.00103968640075166" rpy="0 0 0" />
       <mass value="0.0271177346495152" />
        <inertia ixx="2.61910379223783E-05" ixy="-2.43616858946494E-07" ixz="-6.37789906117123E-09" iyy="2.8270243746167E-06" iyz="-5.37200748039765E-07" izz="2.83695868220296E-05" />
        </inertial>
    <visual>
      <origin rpy="0 0 0" xyz="0 0 0"/>
      <geometry>
        <mesh filename="../robotiq_85/meshes/visual/robotiq_arg2f_85_inner_knuckle.dae" scale="0.001 0.001 0.001"/>
      </geometry>
      <material name="LightGrey">
        <color rgba="0 0 1 1.0"/>
      </material>
    </visual>
    <collision>
      <origin rpy="0 0 0" xyz="0 0 0"/>
      <geometry>
        <mesh filename="../robotiq_85/meshes/collision/robotiq_arg2f_85_inner_knuckle.dae" scale="0.001 0.001 0.001"/>
      </geometry>
    </collision>
  </link>
  <joint name="right_outer_knuckle_joint_1" type="revolute">
    <origin rpy="0 0 0" xyz="0 0.0306011 0.054904"/>
    <parent link="robotiq_arg2f_base_link_1"/>
    <child link="right_outer_knuckle_1"/>
    <axis xyz="1 0 0"/>
    <limit effort="1000" lower="0" upper="0.81" velocity="2.0"/>
    <mimic joint="finger_joint_1" multiplier="1" offset="0"/>
    <dynamics damping="0.1" friction="0.0"/>
  </joint>
  <link name="right_outer_knuckle_1">
    <inertial>
        <origin xyz="-0.000200000000003065 0.0199435877845359 0.0292245259211331" rpy="0 0 0" />
        <mass value="0.00853198276973456" />
        <inertia ixx="2.89328108496468E-06" ixy="-1.57935047237397E-19" ixz="-1.93980378593255E-19" iyy="1.86719750325683E-06" iyz="-1.21858577871576E-06" izz="1.21905238907251E-06" />
        </inertial>
    <visual>
      <origin rpy="0 0 0" xyz="0 0 0"/>
      <geometry>
        <mesh filename="../robotiq_85/meshes/visual/robotiq_arg2f_85_outer_knuckle.dae" scale="0.001 0.001 0.001"/>
      </geometry>
      <material name="">
        <color rgba="0.792156862745098 0.819607843137255 0.933333333333333 1"/>
      </material>
    </visual>
    <collision>
      <origin rpy="0 0 0" xyz="0 0 0"/>
      <geometry>
        <mesh filename="../robotiq_85/meshes/collision/robotiq_arg2f_85_outer_knuckle.dae" scale="0.001 0.001 0.001"/>
      </geometry>
    </collision>
  </link>
  <joint name="right_outer_finger_joint_1" type="fixed">
    <origin rpy="0 0 0" xyz="0 0.0315 -0.0041"/>
    <parent link="right_outer_knuckle_1"/>
    <child link="right_outer_finger_1"/>
    <axis xyz="1 0 0"/>
    <dynamics damping="0.1" friction="0.0"/>
  </joint>
  <link name="right_outer_finger_1">
    <inertial>
        <origin xyz="0.00030115855001899 0.0373907951953854 -0.0208027427000385" rpy="0 0 0" />
        <mass value="0.022614240507152" />
        <inertia ixx="1.52518312458174E-05" ixy="9.76583423954399E-10" ixz="-5.43838577022588E-10" iyy="6.17694243867776E-06" iyz="6.78636130740228E-06" izz="1.16494917907219E-05" />
        </inertial>
    <visual>
      <origin rpy="0 0 0" xyz="0 0 0"/>
      <geometry>
        <mesh filename="../robotiq_85/meshes/visual/robotiq_arg2f_85_outer_finger.dae" scale="0.001 0.001 0.001"/>
      </geometry>
      <material name="LightGrey">
        <color rgba="0.7 0.7 0.7 1.0"/>
      </material>
    </visual>
    <collision>
      <origin rpy="0 0 0" xyz="0 0 0"/>
      <geometry>
        <mesh filename="../robotiq_85/meshes/collision/robotiq_arg2f_85_outer_finger.dae" scale="0.001 0.001 0.001"/>
      </geometry>
    </collision>
  </link>
  <joint name="right_inner_finger_joint_1" type="revolute">
    <origin rpy="0 0 0" xyz="0 0.0061 0.0471"/>
    <parent link="right_outer_finger_1"/>
    <child link="right_inner_finger_1"/>
    <axis xyz="1 0 0"/>
    <limit effort="1000" lower="-0.8757" upper="0" velocity="2.0"/>
    <mimic joint="finger_joint_1" multiplier="-1" offset="0"/>
    <dynamics damping="0.1" friction="0.0"/>
  </joint>
  <link name="right_inner_finger_1">
    <inertial>
        <origin xyz="0.000299999999999317 0.0160078233491243 -0.0136945669206257" rpy="0 0 0" />
        <mass value="0.0104003125914103" />
        <inertia ixx="2.71909453810972E-06" ixy="1.35402465472579E-21" ixz="-7.1817349065269E-22" iyy="7.69100314106116E-07" iyz="6.74715432769696E-07" izz="2.30315190420171E-06" />
        </inertial>
    <visual>
      <origin rpy="0 0 0" xyz="0 0 0"/>
      <geometry>
        <mesh filename="../robotiq_85/meshes/visual/robotiq_arg2f_85_inner_finger.dae" scale="0.001 0.001 0.001"/>
      </geometry>
      <material name="">
        <color rgba="0.1 0.1 0.1 1"/>
      </material>
    </visual>
    <collision>
      <origin rpy="0 0 0" xyz="0 0 0"/>
      <geometry>
        <mesh filename="../robotiq_85/meshes/collision/robotiq_arg2f_85_inner_finger.dae" scale="0.001 0.001 0.001"/>
      </geometry>
    </collision>
  </link>
  <joint name="right_inner_finger_pad_joint_1" type="fixed">
    <origin rpy="0 0 0" xyz="0 -0.0220203446692936 0.03242"/>
    <parent link="right_inner_finger_1"/>
    <child link="right_inner_finger_pad_1"/>
    <axis xyz="0 0 1"/>
    <dynamics damping="0.1" friction="0.0"/>
  </joint>
  <link name="right_inner_finger_pad_1">
    <inertial>
      <mass value="1"/>
      <inertia ixx="1E-10" ixy="1E-10" ixz="1E-10" iyy="1E-10" iyz="1E-10" izz="1E-10"/>
    </inertial>
    <contact>
      <friction_anchor/>
      <stiffness value="30000.0"/>
      <damping value="1000.0"/>
      <spinning_friction value="0.1"/>
      <lateral_friction value="1.0"/>
    </contact>
    <visual>
      <origin rpy="0 0 0" xyz="0 0 0"/>
      <geometry>
        <box size="0.022 0.00635 0.0375"/>
      </geometry>
      <material name="UR-Blue">
        <color rgba="0.376 0.576 0.674 1.0"/>
      </material>
    </visual>
    <collision>
      <origin rpy="0 0 0" xyz="0 0 0"/>
      <geometry>
        <box size="0.022 0.00635 0.0375"/>
      </geometry>
      <material name="LightGrey">
        <color rgba="0.7 0.7 0.7 1.0"/>
      </material>
    </collision>
  </link>
  <joint name="right_inner_knuckle_joint_1" type="revolute">
    <!-- <origin xyz="0 ${reflect * -0.0127} 0.06142" rpy="${pi / 2 + .725} 0 ${(reflect - 1) * pi / 2}" /> -->
    <origin rpy="0 0 0.0" xyz="0 0.0127 0.06142"/>
    <parent link="robotiq_arg2f_base_link_1"/>
    <child link="right_inner_knuckle_1"/>
    <axis xyz="1 0 0"/>
    <limit effort="1000" lower="0" upper="0.8757" velocity="2.0"/>
    <mimic joint="finger_joint_1" multiplier="1" offset="0"/>
    <dynamics damping="0.1" friction="0.0"/>
  </joint>
  <link name="right_inner_knuckle_1">
    <inertial>
        <origin xyz="0.000123011831763771 0.0507850843201817 0.00103968640075166" rpy="0 0 0" />
       <mass value="0.0271177346495152" />
        <inertia ixx="2.61910379223783E-05" ixy="-2.43616858946494E-07" ixz="-6.37789906117123E-09" iyy="2.8270243746167E-06" iyz="-5.37200748039765E-07" izz="2.83695868220296E-05" />
        </inertial>
    <visual>
      <origin rpy="0 0 0" xyz="0 0 0"/>
      <geometry>
        <mesh filename="../robotiq_85/meshes/visual/robotiq_arg2f_85_inner_knuckle.dae" scale="0.001 0.001 0.001"/>
      </geometry>
      <material name="LightGrey">
        <color rgba="0.7 0.7 0.7 1.0"/>
      </material>
    </visual>
    <collision>
      <origin rpy="0 0 0" xyz="0 0 0"/>
      <geometry>
        <mesh filename="../robotiq_85/meshes/collision/robotiq_arg2f_85_inner_knuckle.dae" scale="0.001 0.001 0.001"/>
      </geometry>
    </collision>
  </link>

  <!--################################################
  ########          arm1 to gripper1             #####
  ####################################################-->

  <!-- connect gripper to arm -->
  <joint name="robotiq_85_base_joint_1" type="fixed">
    <parent link="ee_link_1"/>
    <child link="robotiq_arg2f_base_link_1"/>
    <origin rpy="0 1.57079632679 0" xyz="0 0 0"/>
  </joint>

  <!--################################################
  ########              arm 2                  #######
  ####################################################-->

  <link name="base_link_2">
    <visual>
      <geometry>
        <mesh filename="../ur5/meshes/visual/base.obj"/>
      </geometry>
      <material name="LightGrey">
        <color rgba="0.7 0.7 0.7 1.0"/>
      </material>
    </visual>
    <collision>
      <geometry>
        <mesh filename="../ur5/meshes/collision/base.stl"/>
      </geometry>
    </collision>
    <inertial>
      <mass value="4.0"/>
      <origin rpy="0 0 0" xyz="0.0 0.0 0.0"/>
      <inertia ixx="0.00443333156" ixy="0.0" ixz="0.0" iyy="0.00443333156" iyz="0.0" izz="0.0072"/>
    </inertial>
  </link>

  <joint name="shoulder_pan_joint_2" type="revolute">
    <parent link="base_link_2"/>
    <child link="shoulder_link_2"/>
    <origin rpy="0.0 0.0 0.0" xyz="0.0 0.0 0.089159"/>
    <axis xyz="0 0 1"/>
    <limit effort="150.0" lower="-3.14159265359" upper="3.14159265359" velocity="3.15"/>
    <dynamics damping="0.1" friction="0.0"/>
  </joint>
  <link name="shoulder_link_2">
    <visual>
      <geometry>
        <mesh filename="../ur5/meshes/visual/shoulder.obj"/>
      </geometry>
      <material name="UR-Blue">
        <color rgba="0.376 0.576 0.674 1.0"/>
      </material>
    </visual>
    <collision>
      <geometry>
        <mesh filename="../ur5/meshes/collision/shoulder.stl"/>
      </geometry>
    </collision>
    <inertial>
      <mass value="3.7"/>
      <origin rpy="0 0 0" xyz="0.0 0.0 0.0"/>
      <inertia ixx="0.010267495893" ixy="0.0" ixz="0.0" iyy="0.010267495893" iyz="0.0" izz="0.00666"/>
    </inertial>
  </link>
  <joint name="shoulder_lift_joint_2" type="revolute">
    <parent link="shoulder_link_2"/>
    <child link="upper_arm_link_2"/>
    <origin rpy="0.0 1.57079632679 0.0" xyz="0.0 0.13585 0.0"/>
    <axis xyz="0 1 0"/>
    <limit effort="150.0" lower="-3.14159265359" upper="3.14159265359" velocity="3.15"/>
    <dynamics damping="0.1" friction="0.0"/>
  </joint>
  <link name="upper_arm_link_2">
    <visual>
      <geometry>
        <mesh filename="../ur5/meshes/visual/upperarm.obj"/>
      </geometry>
      <material name="LightGrey">
        <color rgba="0.7 0.7 0.7 1.0"/>
      </material>
    </visual>
    <collision>
      <geometry>
        <mesh filename="../ur5/meshes/collision/upperarm.stl"/>
      </geometry>
    </collision>
    <inertial>
      <mass value="8.393"/>
      <origin rpy="0 0 0" xyz="0.0 0.0 0.28"/>
      <inertia ixx="0.22689067591" ixy="0.0" ixz="0.0" iyy="0.22689067591" iyz="0.0" izz="0.0151074"/>
    </inertial>
  </link>
  <joint name="elbow_joint_2" type="revolute">
    <parent link="upper_arm_link_2"/>
    <child link="forearm_link_2"/>
    <origin rpy="0.0 0.0 0.0" xyz="0.0 -0.1197 0.425"/>
    <axis xyz="0 1 0"/>
    <limit effort="150.0" lower="-3.14159265359" upper="3.14159265359" velocity="3.15"/>
    <dynamics damping="0.1" friction="0.0"/>
  </joint>
  <link name="forearm_link_2">
    <visual>
      <geometry>
        <mesh filename="../ur5/meshes/visual/forearm.obj"/>
      </geometry>
      <material name="LightGrey">
        <color rgba="0.7 0.7 0.7 1.0"/>
      </material>
    </visual>
    <collision>
      <geometry>
        <mesh filename="../ur5/meshes/collision/forearm.stl"/>
      </geometry>
    </collision>
    <inertial>
      <mass value="2.275"/>
      <origin rpy="0 0 0" xyz="0.0 0.0 0.25"/>
      <inertia ixx="0.049443313556" ixy="0.0" ixz="0.0" iyy="0.049443313556" iyz="0.0" izz="0.004095"/>
    </inertial>
  </link>
  <joint name="wrist_1_joint_2" type="revolute">
    <parent link="forearm_link_2"/>
    <child link="wrist_1_link_2"/>
    <origin rpy="0.0 1.57079632679 0.0" xyz="0.0 0.0 0.39225"/>
    <axis xyz="0 1 0"/>
    <limit effort="28.0" lower="-3.14159265359" upper="3.14159265359" velocity="3.2"/>
    <dynamics damping="0.1" friction="0.0"/>
  </joint>
  <link name="wrist_1_link_2">
    <visual>
      <geometry>
        <mesh filename="../ur5/meshes/visual/wrist1.obj"/>
      </geometry>
      <material name="UR-Blue">
        <color rgba="0.376 0.576 0.674 1.0"/>
      </material>
    </visual>
    <collision>
      <geometry>
        <mesh filename="../ur5/meshes/collision/wrist1.stl"/>
      </geometry>
    </collision>
    <inertial>
      <mass value="1.219"/>
      <origin rpy="0 0 0" xyz="0.0 0.0 0.0"/>
      <inertia ixx="0.111172755531" ixy="0.0" ixz="0.0" iyy="0.111172755531" iyz="0.0" izz="0.21942"/>
    </inertial>
  </link>
  <joint name="wrist_2_joint_2" type="revolute">
    <parent link="wrist_1_link_2"/>
    <child link="wrist_2_link_2"/>
    <origin rpy="0.0 0.0 0.0" xyz="0.0 0.093 0.0"/>
    <axis xyz="0 0 1"/>
    <limit effort="28.0" lower="-3.14159265359" upper="3.14159265359" velocity="3.2"/>
    <dynamics damping="0.1" friction="0.0"/>
  </joint>
  <link name="wrist_2_link_2">
    <visual>
      <geometry>
        <mesh filename="../ur5/meshes/visual/wrist2.obj"/>
      </geometry>
      <material name="DarkGray">
        <color rgba="0.5 0.5 0.5 1.0"/>
      </material>
    </visual>
    <collision>
      <geometry>
        <mesh filename="../ur5/meshes/collision/wrist2.stl"/>
      </geometry>
    </collision>
    <inertial>
      <mass value="1.219"/>
      <origin rpy="0 0 0" xyz="0.0 0.0 0.0"/>
      <inertia ixx="0.111172755531" ixy="0.0" ixz="0.0" iyy="0.111172755531" iyz="0.0" izz="0.21942"/>
    </inertial>
  </link>
  <joint name="wrist_3_joint_2" type="revolute">
    <parent link="wrist_2_link_2"/>
    <child link="wrist_3_link_2"/>
    <origin rpy="0.0 0.0 0.0" xyz="0.0 0.0 0.09465"/>
    <axis xyz="0 1 0"/>
    <limit effort="28.0" lower="-3.14159265359" upper="3.14159265359" velocity="3.2"/>
    <dynamics damping="0.1" friction="0.0"/>
  </joint>
  <link name="wrist_3_link_2">
    <visual>
      <geometry>
        <mesh filename="../ur5/meshes/visual/wrist3.obj"/>
      </geometry>
      <material name="LightGrey">
        <color rgba="0.7 0.7 0.7 1.0"/>
      </material>
    </visual>
    <collision>
      <geometry>
        <mesh filename="../ur5/meshes/collision/wrist3.stl"/>
      </geometry>
    </collision>
    <inertial>
      <mass value="0.1879"/>
      <origin rpy="0 0 0" xyz="0.0 0.0 0.0"/>
      <inertia ixx="0.0171364731454" ixy="0.0" ixz="0.0" iyy="0.0171364731454" iyz="0.0" izz="0.033822"/>
    </inertial>
  </link>
  <joint name="ee_fixed_joint_2" type="fixed">
    <parent link="wrist_3_link_2"/>
    <child link="ee_link_2"/>
    <origin rpy="0.0 0.0 1.57079632679" xyz="0.0 0.0823 0.0"/>
    <dynamics damping="0.1" friction="0.0"/>
  </joint>
  <link name="ee_link_2">
    <collision>
      <geometry>
        <box size="0.01 0.01 0.01"/>
      </geometry>
      <origin rpy="0 0 0" xyz="-0.01 0 0"/>
    </collision>
  </link>


  <!--################################################
  ########             gripper 1                 #####
  ####################################################-->

  <link name="robotiq_arg2f_base_link_2">
    <inertial>
      <origin rpy="0 0 0" xyz="8.625E-08 -4.6583E-06 0.03145"/>
      <mass value="0.22652"/>
      <inertia ixx="0.00020005" ixy="-4.2442E-10" ixz="-2.9069E-10" iyy="0.00017832" iyz="-3.4402E-08" izz="0.00013478"/>
    </inertial>
    <visual>
      <origin rpy="0 0 0" xyz="0 0 0"/>
      <geometry>
        <mesh filename="../robotiq_85/meshes/visual/robotiq_arg2f_85_base_link.dae" scale="0.001 0.001 0.001"/>
      </geometry>
      <material name="LightGrey">
        <color rgba="0.7 0.7 0.7 1.0"/>
      </material>
    </visual>
    <collision>
      <origin rpy="0 0 0" xyz="0 0 0"/>
      <geometry>
        <mesh filename="../robotiq_85/meshes/collision/robotiq_arg2f_base_link.stl"/>
      </geometry>
    </collision>
  </link>
  <joint name="finger_joint_2" type="revolute">
    <origin rpy="0 0 3.14159265359" xyz="0 -0.0306011 0.054904"/>
    <parent link="robotiq_arg2f_base_link_2"/>
    <child link="left_outer_knuckle_2"/>
    <axis xyz="1 0 0"/>
    <limit effort="1000" lower="0" upper="0.8" velocity="2.0"/>
    <dynamics damping="0.1" friction="0.0"/>
  </joint>
  <link name="left_outer_knuckle_2">
    <inertial>
        <origin xyz="-0.000200000000003065 0.0199435877845359 0.0292245259211331" rpy="0 0 0" />
        <mass value="0.00853198276973456" />
        <inertia ixx="2.89328108496468E-06" ixy="-1.57935047237397E-19" ixz="-1.93980378593255E-19" iyy="1.86719750325683E-06" iyz="-1.21858577871576E-06" izz="1.21905238907251E-06" />
        </inertial>
    <visual>
      <origin rpy="0 0 0" xyz="0 0 0"/>
      <geometry>
        <mesh filename="../robotiq_85/meshes/visual/robotiq_arg2f_85_outer_knuckle.dae" scale="0.001 0.001 0.001"/>
      </geometry>
      <material name="">
        <color rgba="1 1 0 1"/>
      </material>
    </visual>
    <collision>
      <origin rpy="0 0 0" xyz="0 0 0"/>
      <geometry>
        <mesh filename="../robotiq_85/meshes/collision/robotiq_arg2f_85_outer_knuckle.dae" scale="0.001 0.001 0.001"/>
      </geometry>
    </collision>
  </link>
  <joint name="left_outer_finger_joint_2" type="fixed">
    <origin rpy="0 0 0" xyz="0 0.0315 -0.0041"/>
    <parent link="left_outer_knuckle_2"/>
    <child link="left_outer_finger_2"/>
    <axis xyz="1 0 0"/>
    <dynamics damping="0.1" friction="0.0"/>
  </joint>
  <link name="left_outer_finger_2">
    <inertial>
        <origin xyz="0.00030115855001899 0.0373907951953854 -0.0208027427000385" rpy="0 0 0" />
        <mass value="0.022614240507152" />
        <inertia ixx="1.52518312458174E-05" ixy="9.76583423954399E-10" ixz="-5.43838577022588E-10" iyy="6.17694243867776E-06" iyz="6.78636130740228E-06" izz="1.16494917907219E-05" />
        </inertial>
    <visual>
      <origin rpy="0 0 0" xyz="0 0 0"/>
      <geometry>
        <mesh filename="../robotiq_85/meshes/visual/robotiq_arg2f_85_outer_finger.dae" scale="0.001 0.001 0.001"/>
      </geometry>
      <material name="LightGrey">
        <color rgba="0 1 1 1.0"/>
      </material>
    </visual>
    <collision>
      <origin rpy="0 0 0" xyz="0 0 0"/>
      <geometry>
        <mesh filename="../robotiq_85/meshes/collision/robotiq_arg2f_85_outer_finger.dae" scale="0.001 0.001 0.001"/>
      </geometry>
    </collision>
  </link>
  <joint name="left_inner_finger_joint_2" type="revolute">
    <origin rpy="0 0 0" xyz="0 0.0061 0.0471"/>
    <parent link="left_outer_finger_2"/>
    <child link="left_inner_finger_2"/>
    <axis xyz="1 0 0"/>
    <limit effort="1000" lower="-0.8757" upper="0" velocity="2.0"/>
    <mimic joint="finger_joint_2" multiplier="-1" offset="0"/>
    <dynamics damping="0.1" friction="0.0"/>
  </joint>
  <link name="left_inner_finger_2">
    <inertial>
        <origin xyz="0.000299999999999317 0.0160078233491243 -0.0136945669206257" rpy="0 0 0" />
        <mass value="0.0104003125914103" />
        <inertia ixx="2.71909453810972E-06" ixy="1.35402465472579E-21" ixz="-7.1817349065269E-22" iyy="7.69100314106116E-07" iyz="6.74715432769696E-07" izz="2.30315190420171E-06" />
        </inertial>
    <visual>
      <origin rpy="0 0 0" xyz="0 0 0"/>
      <geometry>
        <mesh filename="../robotiq_85/meshes/visual/robotiq_arg2f_85_inner_finger.dae" scale="0.001 0.001 0.001"/>
      </geometry>
      <material name="LightGrey">
        <color rgba="1 0 1 1.0"/>
      </material>
    </visual>
    <collision>
      <origin rpy="0 0 0" xyz="0 0 0"/>
      <geometry>
        <mesh filename="../robotiq_85/meshes/collision/robotiq_arg2f_85_inner_finger.dae" scale="0.001 0.001 0.001"/>
      </geometry>
    </collision>
  </link>
  <joint name="left_inner_finger_pad_joint_2" type="fixed">
    <origin rpy="0 0 0" xyz="0 -0.0220203446692936 0.03242"/>
    <parent link="left_inner_finger_2"/>
    <child link="left_inner_finger_pad_2"/>
    <axis xyz="0 0 1"/>
    <dynamics damping="0.1" friction="0.0"/>
  </joint>
  <link name="left_inner_finger_pad_2">
    <inertial>
      <mass value="1."/>
      <inertia ixx="1E-10" ixy="1E-10" ixz="1E-10" iyy="1E-10" iyz="1E-10" izz="1E-10"/>
    </inertial>
    <contact>
      <friction_anchor/>
      <stiffness value="30000.0"/>
      <damping value="1000.0"/>
      <spinning_friction value="0.1"/>
      <lateral_friction value="1.0"/>
    </contact>
    <visual>
      <origin rpy="0 0 0" xyz="0 0 0"/>
      <geometry>
        <box size="0.022 0.00635 0.0375"/>
      </geometry>
      <material name="UR-Blue">
        <color rgba="0.376 0.576 0.674 1.0"/>
      </material>
    </visual>
    <collision>
      <origin rpy="0 0 0" xyz="0 0 0"/>
      <geometry>
        <box size="0.022 0.00635 0.0375"/>
      </geometry>
      <material name="">
        <color rgba="0.9 0.0 0.0 1"/>
      </material>
    </collision>
  </link>
  <joint name="left_inner_knuckle_joint_2" type="revolute">
    <!-- <origin xyz="0 ${reflect * -0.0127} 0.06142" rpy="${pi / 2 + .725} 0 ${(reflect - 1) * pi / 2}" /> -->
    <origin rpy="0 0 3.14159265359" xyz="0 -0.0127 0.06142"/>
    <parent link="robotiq_arg2f_base_link_2"/>
    <child link="left_inner_knuckle_2"/>
    <axis xyz="1 0 0"/>
    <limit effort="1000" lower="0" upper="0.8757" velocity="2.0"/>
    <mimic joint="finger_joint_2" multiplier="1" offset="0"/>
    <dynamics damping="0.1" friction="0.0"/>
  </joint>
  <link name="left_inner_knuckle_2">
    <inertial>
        <origin xyz="0.000123011831763771 0.0507850843201817 0.00103968640075166" rpy="0 0 0" />
       <mass value="0.0271177346495152" />
        <inertia ixx="2.61910379223783E-05" ixy="-2.43616858946494E-07" ixz="-6.37789906117123E-09" iyy="2.8270243746167E-06" iyz="-5.37200748039765E-07" izz="2.83695868220296E-05" />
        </inertial>
    <visual>
      <origin rpy="0 0 0" xyz="0 0 0"/>
      <geometry>
        <mesh filename="../robotiq_85/meshes/visual/robotiq_arg2f_85_inner_knuckle.dae" scale="0.001 0.001 0.001"/>
      </geometry>
      <material name="LightGrey">
        <color rgba="0 0 1 1.0"/>
      </material>
    </visual>
    <collision>
      <origin rpy="0 0 0" xyz="0 0 0"/>
      <geometry>
        <mesh filename="../robotiq_85/meshes/collision/robotiq_arg2f_85_inner_knuckle.dae" scale="0.001 0.001 0.001"/>
      </geometry>
    </collision>
  </link>
  <joint name="right_outer_knuckle_joint_2" type="revolute">
    <origin rpy="0 0 0" xyz="0 0.0306011 0.054904"/>
    <parent link="robotiq_arg2f_base_link_2"/>
    <child link="right_outer_knuckle_2"/>
    <axis xyz="1 0 0"/>
    <limit effort="1000" lower="0" upper="0.81" velocity="2.0"/>
    <mimic joint="finger_joint_2" multiplier="1" offset="0"/>
    <dynamics damping="0.1" friction="0.0"/>
  </joint>
  <link name="right_outer_knuckle_2">
    <inertial>
        <origin xyz="-0.000200000000003065 0.0199435877845359 0.0292245259211331" rpy="0 0 0" />
        <mass value="0.00853198276973456" />
        <inertia ixx="2.89328108496468E-06" ixy="-1.57935047237397E-19" ixz="-1.93980378593255E-19" iyy="1.86719750325683E-06" iyz="-1.21858577871576E-06" izz="1.21905238907251E-06" />
        </inertial>
    <visual>
      <origin rpy="0 0 0" xyz="0 0 0"/>
      <geometry>
        <mesh filename="../robotiq_85/meshes/visual/robotiq_arg2f_85_outer_knuckle.dae" scale="0.001 0.001 0.001"/>
      </geometry>
      <material name="">
        <color rgba="0.792156862745098 0.819607843137255 0.933333333333333 1"/>
      </material>
    </visual>
    <collision>
      <origin rpy="0 0 0" xyz="0 0 0"/>
      <geometry>
        <mesh filename="../robotiq_85/meshes/collision/robotiq_arg2f_85_outer_knuckle.dae" scale="0.001 0.001 0.001"/>
      </geometry>
    </collision>
  </link>
  <joint name="right_outer_finger_joint_2" type="fixed">
    <origin rpy="0 0 0" xyz="0 0.0315 -0.0041"/>
    <parent link="right_outer_knuckle_2"/>
    <child link="right_outer_finger_2"/>
    <axis xyz="1 0 0"/>
    <dynamics damping="0.1" friction="0.0"/>
  </joint>
  <link name="right_outer_finger_2">
    <inertial>
        <origin xyz="0.00030115855001899 0.0373907951953854 -0.0208027427000385" rpy="0 0 0" />
        <mass value="0.022614240507152" />
        <inertia ixx="1.52518312458174E-05" ixy="9.76583423954399E-10" ixz="-5.43838577022588E-10" iyy="6.17694243867776E-06" iyz="6.78636130740228E-06" izz="1.16494917907219E-05" />
        </inertial>
    <visual>
      <origin rpy="0 0 0" xyz="0 0 0"/>
      <geometry>
        <mesh filename="../robotiq_85/meshes/visual/robotiq_arg2f_85_outer_finger.dae" scale="0.001 0.001 0.001"/>
      </geometry>
      <material name="LightGrey">
        <color rgba="0.7 0.7 0.7 1.0"/>
      </material>
    </visual>
    <collision>
      <origin rpy="0 0 0" xyz="0 0 0"/>
      <geometry>
        <mesh filename="../robotiq_85/meshes/collision/robotiq_arg2f_85_outer_finger.dae" scale="0.001 0.001 0.001"/>
      </geometry>
    </collision>
  </link>
  <joint name="right_inner_finger_joint_2" type="revolute">
    <origin rpy="0 0 0" xyz="0 0.0061 0.0471"/>
    <parent link="right_outer_finger_2"/>
    <child link="right_inner_finger_2"/>
    <axis xyz="1 0 0"/>
    <limit effort="1000" lower="-0.8757" upper="0" velocity="2.0"/>
    <mimic joint="finger_joint_2" multiplier="-1" offset="0"/>
    <dynamics damping="0.1" friction="0.0"/>
  </joint>
  <link name="right_inner_finger_2">
    <inertial>
        <origin xyz="0.000299999999999317 0.0160078233491243 -0.0136945669206257" rpy="0 0 0" />
        <mass value="0.0104003125914103" />
        <inertia ixx="2.71909453810972E-06" ixy="1.35402465472579E-21" ixz="-7.1817349065269E-22" iyy="7.69100314106116E-07" iyz="6.74715432769696E-07" izz="2.30315190420171E-06" />
        </inertial>
    <visual>
      <origin rpy="0 0 0" xyz="0 0 0"/>
      <geometry>
        <mesh filename="../robotiq_85/meshes/visual/robotiq_arg2f_85_inner_finger.dae" scale="0.001 0.001 0.001"/>
      </geometry>
      <material name="">
        <color rgba="0.1 0.1 0.1 1"/>
      </material>
    </visual>
    <collision>
      <origin rpy="0 0 0" xyz="0 0 0"/>
      <geometry>
        <mesh filename="../robotiq_85/meshes/collision/robotiq_arg2f_85_inner_finger.dae" scale="0.001 0.001 0.001"/>
      </geometry>
    </collision>
  </link>
  <joint name="right_inner_finger_pad_joint_2" type="fixed">
    <origin rpy="0 0 0" xyz="0 -0.0220203446692936 0.03242"/>
    <parent link="right_inner_finger_2"/>
    <child link="right_inner_finger_pad_2"/>
    <axis xyz="0 0 1"/>
    <dynamics damping="0.1" friction="0.0"/>
  </joint>
  <link name="right_inner_finger_pad_2">
    <inertial>
      <mass value="1"/>
      <inertia ixx="1E-10" ixy="1E-10" ixz="1E-10" iyy="1E-10" iyz="1E-10" izz="1E-10"/>
    </inertial>
    <contact>
      <friction_anchor/>
      <stiffness value="30000.0"/>
      <damping value="1000.0"/>
      <spinning_friction value="0.1"/>
      <lateral_friction value="1.0"/>
    </contact>
    <visual>
      <origin rpy="0 0 0" xyz="0 0 0"/>
      <geometry>
        <box size="0.022 0.00635 0.0375"/>
      </geometry>
      <material name="UR-Blue">
        <color rgba="0.376 0.576 0.674 1.0"/>
      </material>
    </visual>
    <collision>
      <origin rpy="0 0 0" xyz="0 0 0"/>
      <geometry>
        <box size="0.022 0.00635 0.0375"/>
      </geometry>
      <material name="LightGrey">
        <color rgba="0.7 0.7 0.7 1.0"/>
      </material>
    </collision>
  </link>
  <joint name="right_inner_knuckle_joint_2" type="revolute">
    <!-- <origin xyz="0 ${reflect * -0.0127} 0.06142" rpy="${pi / 2 + .725} 0 ${(reflect - 1) * pi / 2}" /> -->
    <origin rpy="0 0 0.0" xyz="0 0.0127 0.06142"/>
    <parent link="robotiq_arg2f_base_link_2"/>
    <child link="right_inner_knuckle_2"/>
    <axis xyz="1 0 0"/>
    <limit effort="1000" lower="0" upper="0.8757" velocity="2.0"/>
    <mimic joint="finger_joint_2" multiplier="1" offset="0"/>
    <dynamics damping="0.1" friction="0.0"/>
  </joint>
  <link name="right_inner_knuckle_2">
    <inertial>
        <origin xyz="0.000123011831763771 0.0507850843201817 0.00103968640075166" rpy="0 0 0" />
       <mass value="0.0271177346495152" />
        <inertia ixx="2.61910379223783E-05" ixy="-2.43616858946494E-07" ixz="-6.37789906117123E-09" iyy="2.8270243746167E-06" iyz="-5.37200748039765E-07" izz="2.83695868220296E-05" />
        </inertial>
    <visual>
      <origin rpy="0 0 0" xyz="0 0 0"/>
      <geometry>
        <mesh filename="../robotiq_85/meshes/visual/robotiq_arg2f_85_inner_knuckle.dae" scale="0.001 0.001 0.001"/>
      </geometry>
      <material name="LightGrey">
        <color rgba="0.7 0.7 0.7 1.0"/>
      </material>
    </visual>
    <collision>
      <origin rpy="0 0 0" xyz="0 0 0"/>
      <geometry>
        <mesh filename="../robotiq_85/meshes/collision/robotiq_arg2f_85_inner_knuckle.dae" scale="0.001 0.001 0.001"/>
      </geometry>
    </collision>
  </link>

  <!--################################################
  ########          arm1 to gripper1             #####
  ####################################################-->

  <!-- connect gripper to arm -->
  <joint name="robotiq_85_base_joint_2" type="fixed">
    <parent link="ee_link_2"/>
    <child link="robotiq_arg2f_base_link_2"/>
    <origin rpy="0 1.57079632679 0" xyz="0 0 0"/>
  </joint>

  <!--################################################
  ########         shared base joints          #######
  ####################################################-->

  <joint name="base_link_joint_0" type="fixed">
    <parent link="base_fixture_link"/>
    <child link="base_link_0"/>
    <origin rpy="0 0 3.1415" xyz="0.50 0.25 0.1"/>
  </joint>

  <joint name="base_link_joint_1" type="fixed">
    <parent link="base_fixture_link"/>
    <child link="base_link_1"/>
    <origin rpy="0 0 0.0" xyz="-0.50 0.0 0.1"/>
  </joint>

  <joint name="base_link_joint_2" type="fixed">
    <parent link="base_fixture_link"/>
    <child link="base_link_2"/>
    <origin rpy="0 0 3.1415" xyz="0.50 -0.25 0.1"/>
  </joint>

</robot>
